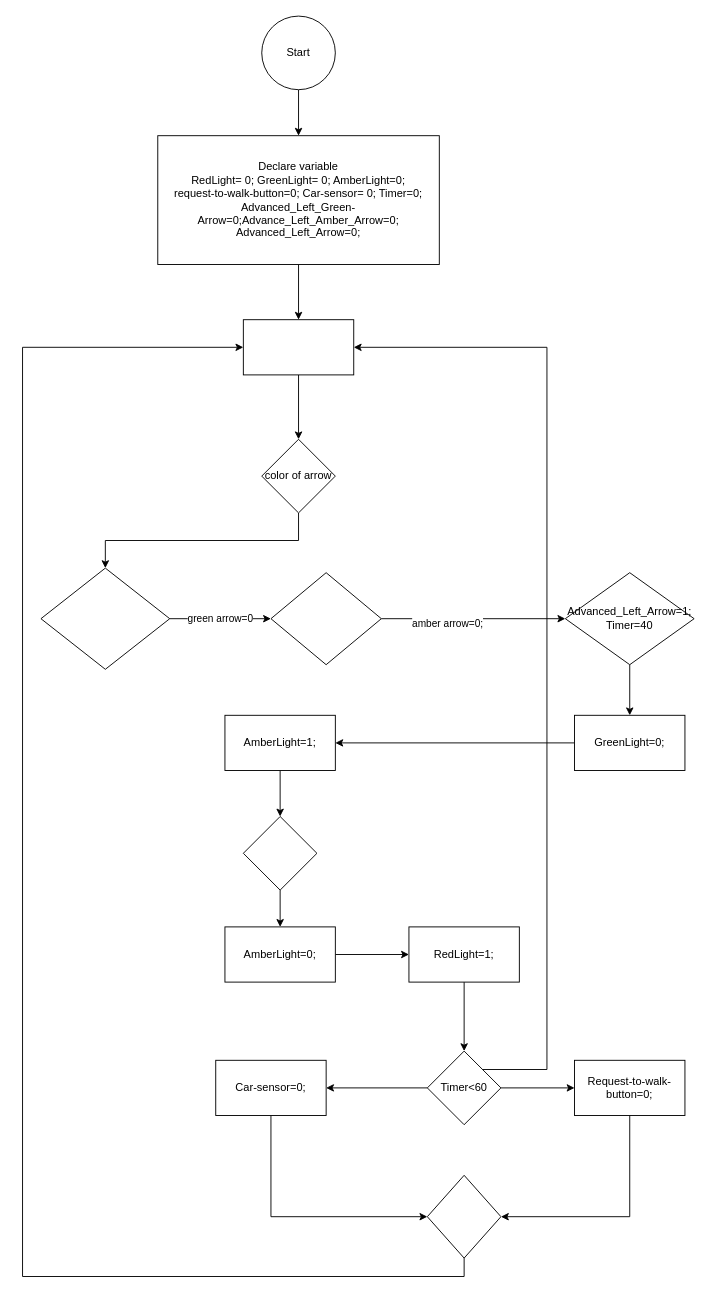
Some shapes in this 710 by 1300 pixel diagram are drawn without their labels. Each missing label, with the centre of its shape:
"Advance_left_ amber_arrow=1; Timer=5s" goes at [325,618].
"Advanced_Left_ Green_Arrow=1; Timer=15s" goes at [105,618].
"GreenLight=1;" goes at [298,347].
"Timer increment timer by 25s" goes at [463,1216].
"Timer<10" goes at [279,853].
